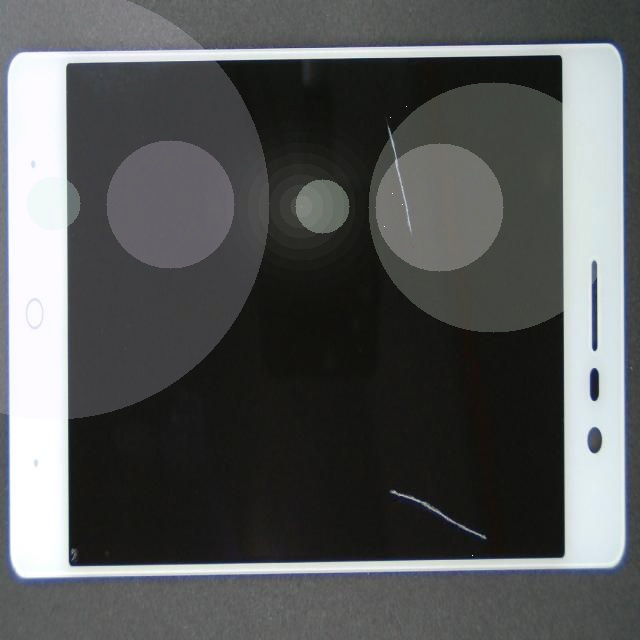scratch: (232, 232, 619, 640), (189, 34, 566, 167)
